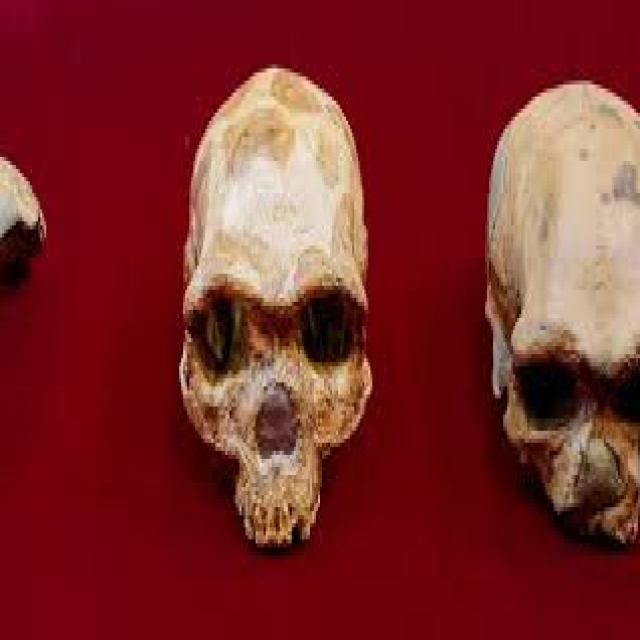skull: (179, 61, 379, 572)
